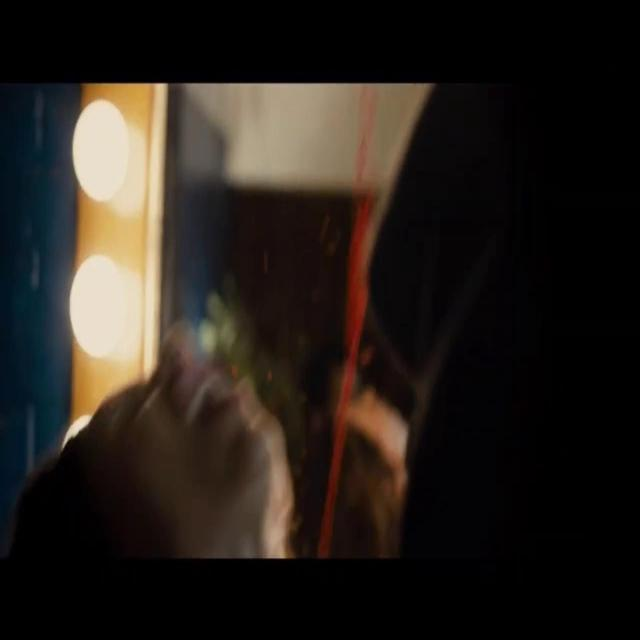flood: (320, 83, 364, 562)
